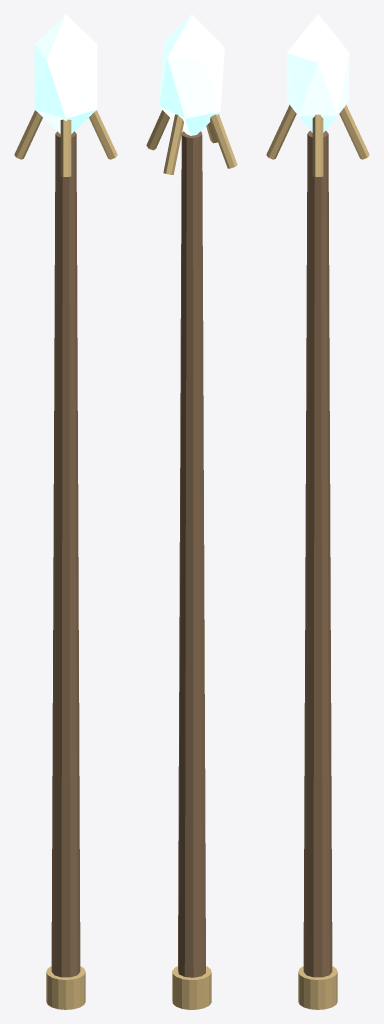
Rendered from crystal_staff.glb.
The picture shows the model from 3 angles, left to right: view 1: azimuth 90°, elevation 25°; view 2: azimuth 150°, elevation 25°; view 3: azimuth 270°, elevation 25°; orthographic projection.
Visible parts, largest first — view 1: Cylinder.004; view 2: Cylinder.004; view 3: Cylinder.004.
Boxes of the visible parts, bbox=[...] form: Cylinder.004: bbox=[14, 14, 117, 1009]; Cylinder.004: bbox=[146, 14, 237, 1009]; Cylinder.004: bbox=[266, 14, 369, 1009].
Size of the model in its own units: 0.1551 by 1.65 by 0.157.
